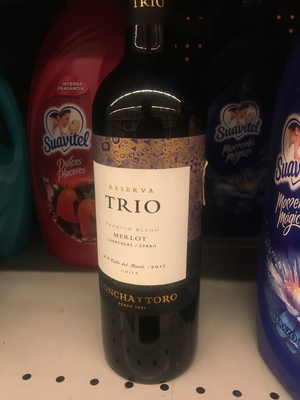trio merlot: (86, 9, 213, 391)
